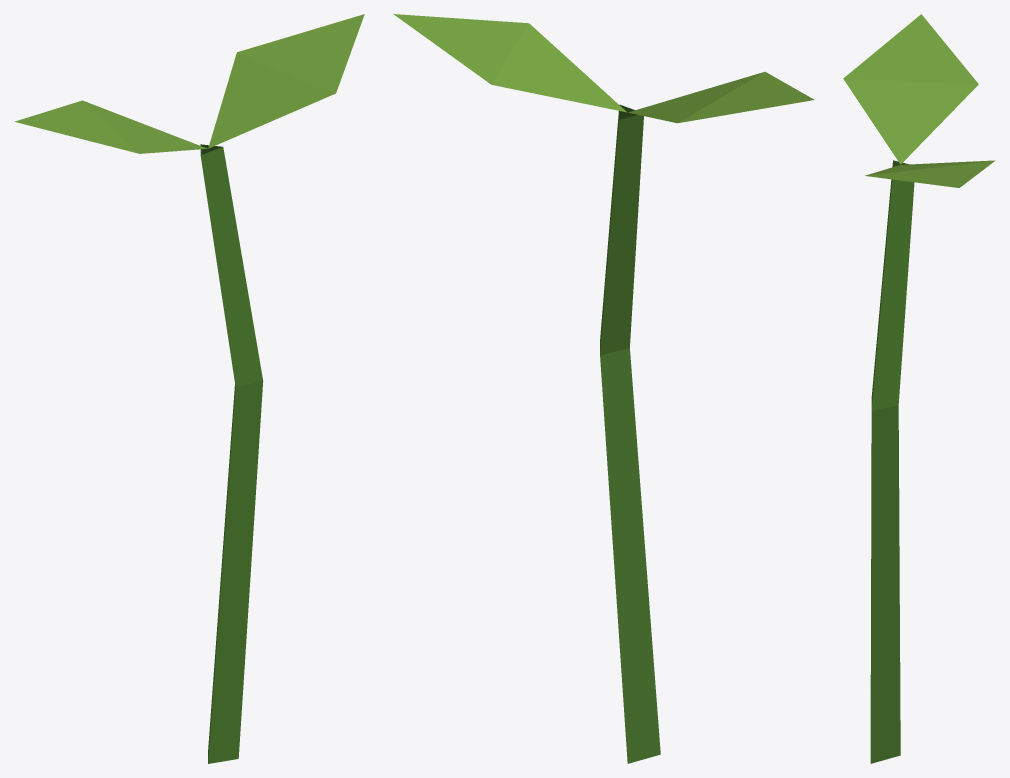
The model's file is weed_sprout.fbx.
3 renders of one model, left to right at view 1: azimuth 30°, elevation 25°; view 2: azimuth 150°, elevation 25°; view 3: azimuth 270°, elevation 25°, orthographic. The views are drawn at different scales.
Visible parts, largest first — view 1: weed_sprout; view 2: weed_sprout; view 3: weed_sprout.
Part boxes in pixels (left/top/right/bottom): weed_sprout: left=14, top=14, right=364, bottom=763; weed_sprout: left=393, top=14, right=814, bottom=763; weed_sprout: left=843, top=14, right=995, bottom=763.
Size of the model in its own units: 4.19 by 7.24 by 1.52.
1 material, 1 textured.
